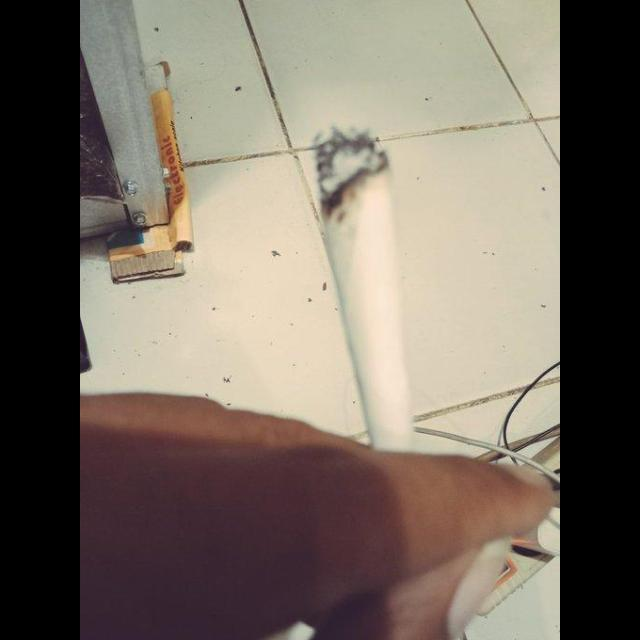rokok: (299, 121, 429, 455)
